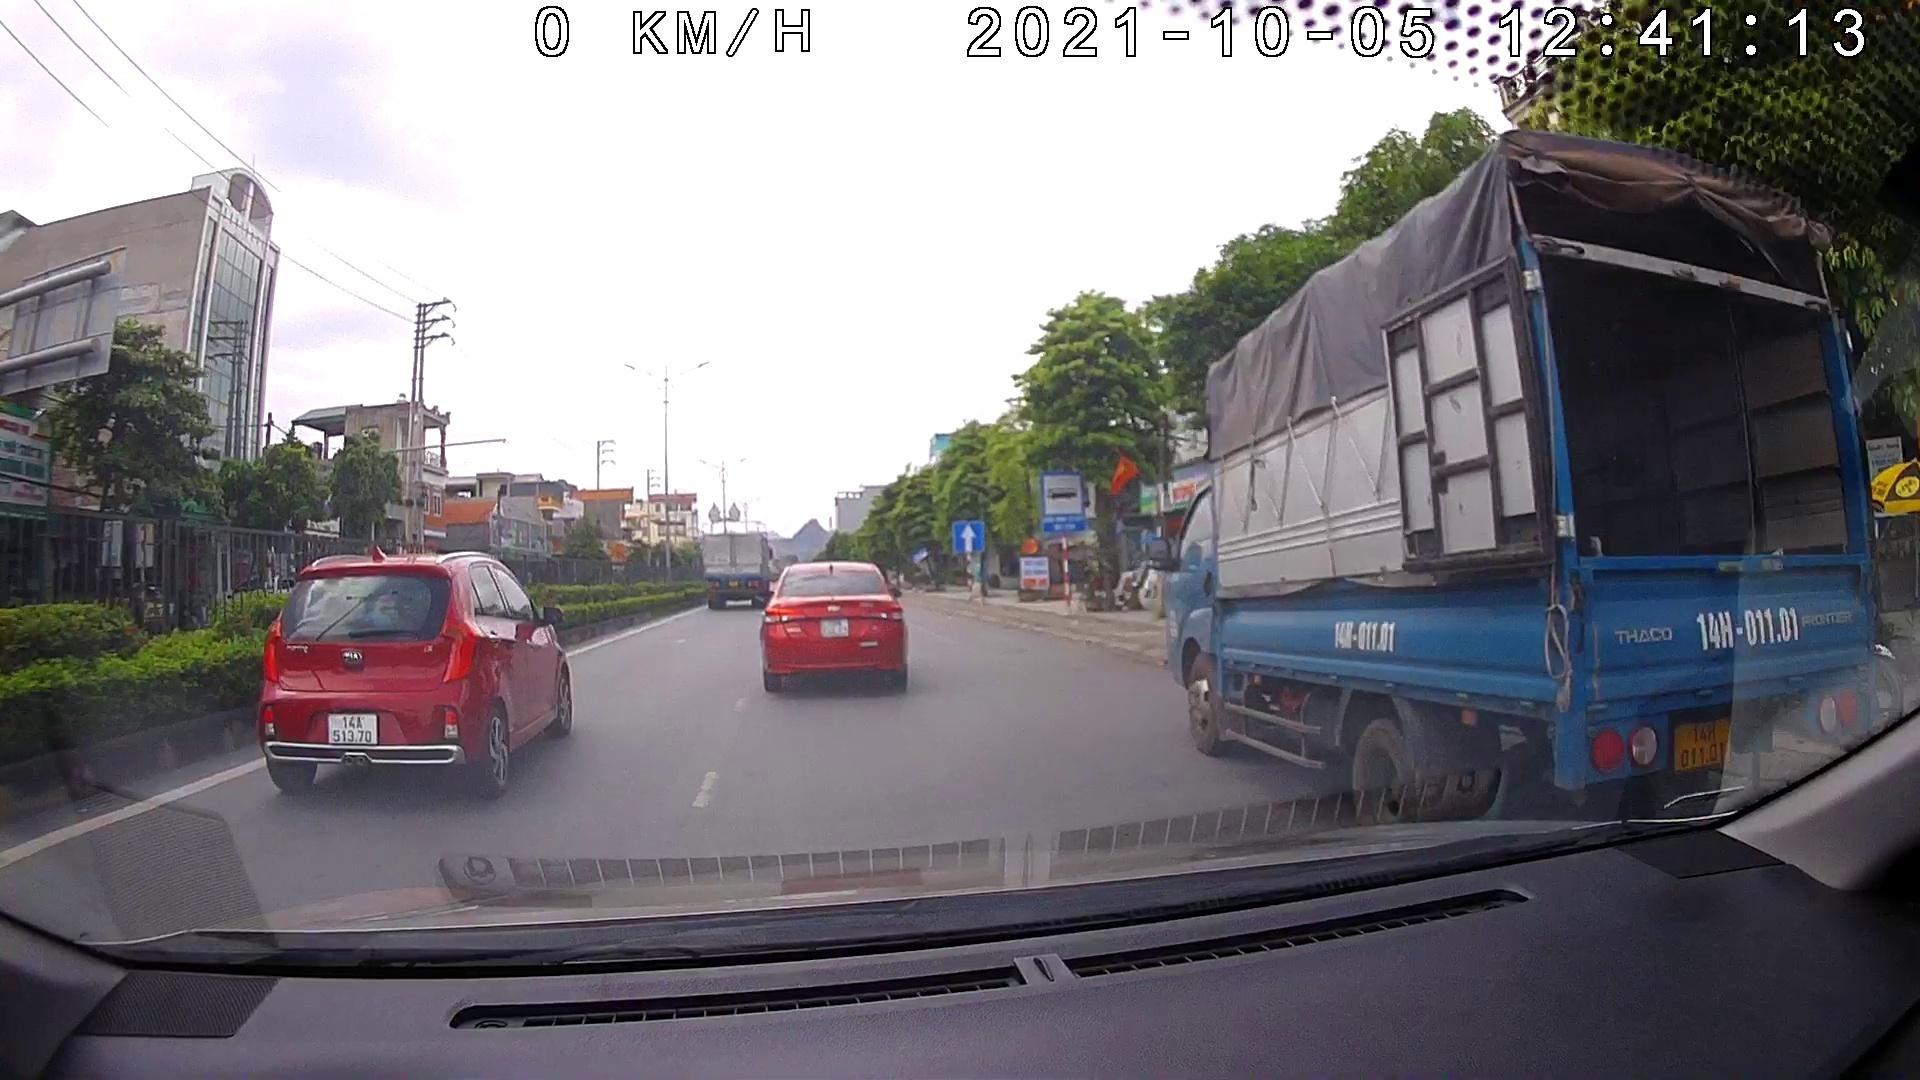Bien khac: (1039, 469, 1084, 537), (945, 518, 992, 555)
